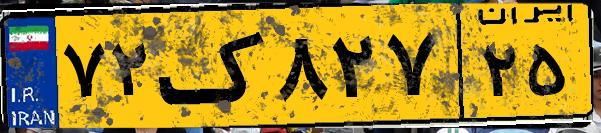2: (330, 28, 385, 110), (475, 38, 525, 113), (110, 28, 158, 98)
5: (525, 38, 570, 115)
7: (385, 28, 445, 110), (57, 26, 110, 100)
8: (270, 28, 330, 110)
ک: (158, 12, 270, 120)
